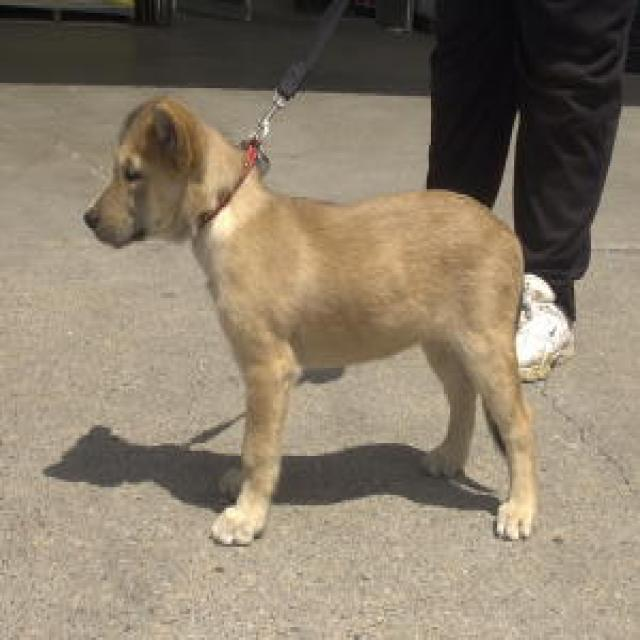Dogs: (81, 90, 540, 546)
